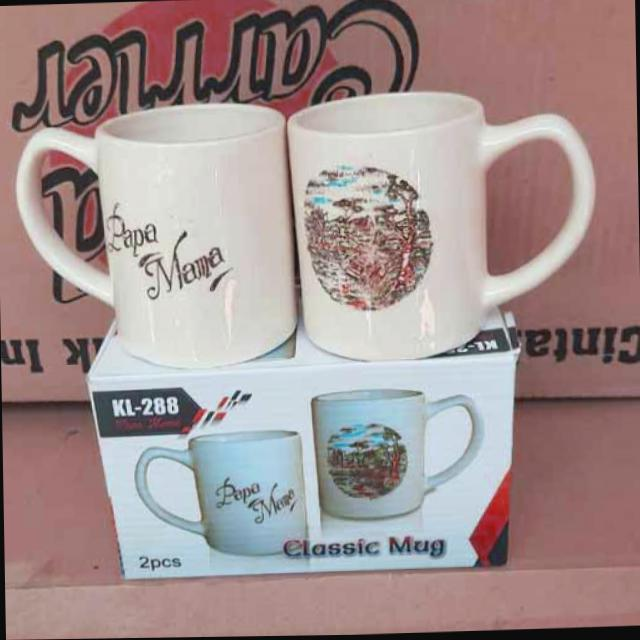cup: (286, 84, 602, 368)
